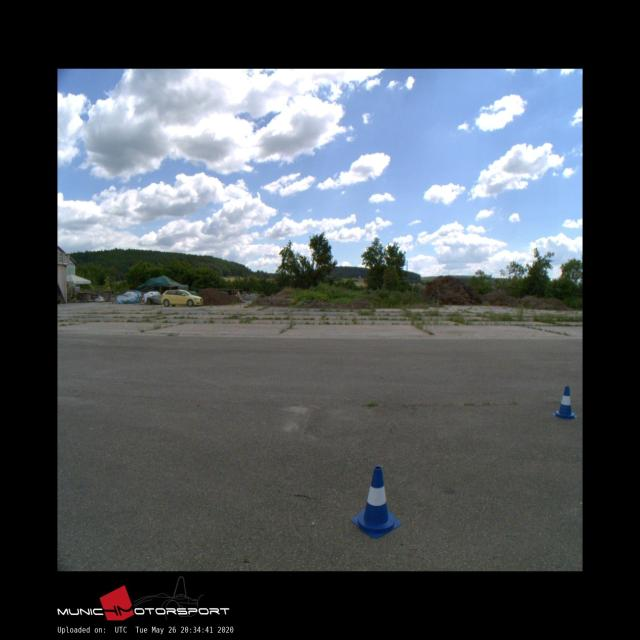blue_cone: (351, 467, 401, 537), (552, 386, 577, 418)
